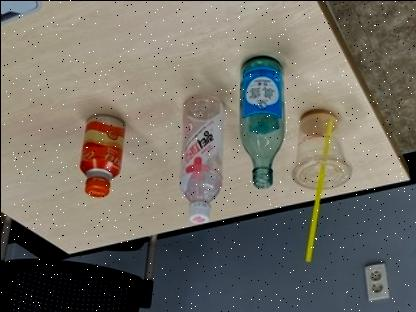Others: (232, 52, 286, 196), (291, 102, 353, 194), (72, 108, 128, 200)
Plastic Bottle: (174, 89, 226, 229)
